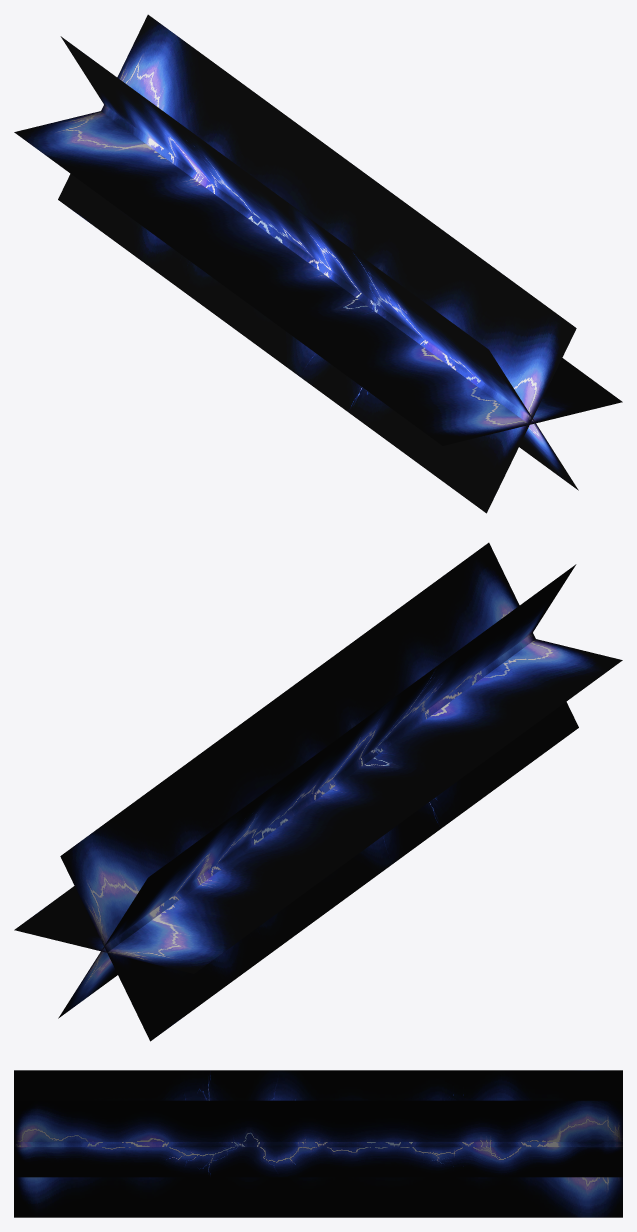
The model's file is arc.glb.
3 renders of one model, top to bottom at view 1: azimuth 30°, elevation 25°; view 2: azimuth 150°, elevation 25°; view 3: azimuth 270°, elevation 25°, orthographic. The views are drawn at different scales.
Parts seen in each view (by area): view 1: arc_mesh; view 2: arc_mesh; view 3: arc_mesh.
Boxes of the visible parts, x1=… form: arc_mesh: x1=14, y1=14, x2=622, y2=513; arc_mesh: x1=14, y1=542, x2=622, y2=1041; arc_mesh: x1=14, y1=1070, x2=622, y2=1217.
Bounding box in the file's own units: 1.21 × 1.05 × 5.
1 material, 1 textured.
